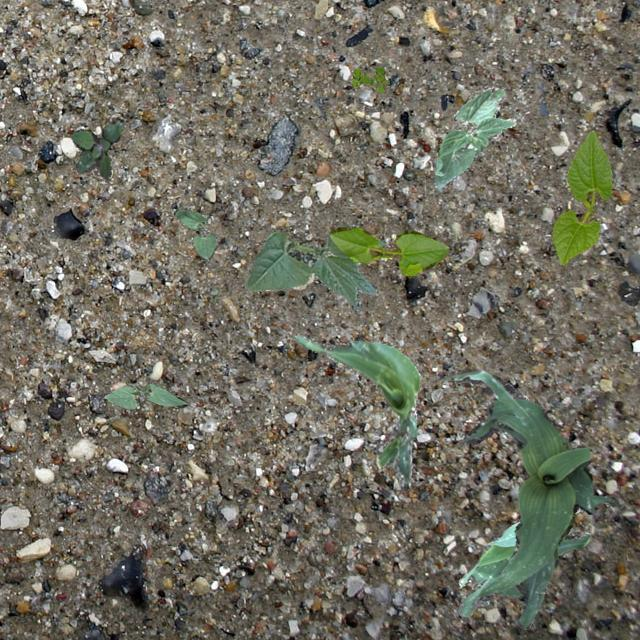crop: (440, 370, 592, 628), (290, 334, 420, 489), (457, 495, 618, 615), (244, 224, 386, 310), (434, 86, 516, 190), (552, 130, 610, 264), (328, 226, 448, 274), (172, 208, 216, 260), (104, 382, 186, 408)
weed: (70, 120, 121, 178), (352, 66, 388, 92)
